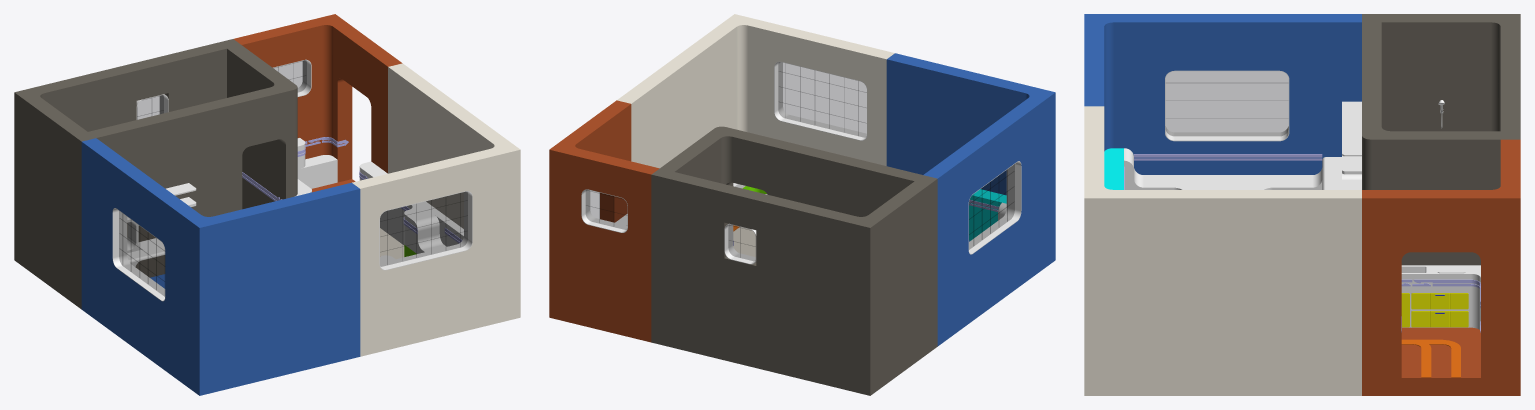
File: vision typeC OptionC.glb
The picture shows the model from 3 angles, left to right: view 1: azimuth 30°, elevation 25°; view 2: azimuth 150°, elevation 25°; view 3: azimuth 270°, elevation 25°; orthographic projection. The views are drawn at different scales.
Visible parts, largest first — view 1: 卧室墙, 厕所墙, 客厅墙, 厨房墙, 玻璃, 窗框（金属）, 沙发（软包，软垫，皮纹细腻）, 橱柜，木制或者整体性强的材质, 架子（木板）, 储物柜，木制或者整体性强的材质, 触摸板; view 2: 厕所墙, 卧室墙, 客厅墙, 厨房墙, 玻璃, 窗框（金属）, 床15MM 软包边-皮质; view 3: 客厅墙, 卧室墙, 厕所墙, 厨房墙, 玻璃, 床（软包，软垫，皮纹细腻）, 架子（木板）, 橱柜，木制或者整体性强的材质, 柜门，区别于整体的柜子, 触摸板, 窗框（金属）, PATH (+1 smaller).
Part boxes in pixels (box(x1,y1,x2,y2)): 卧室墙: box(81, 138, 360, 395); 厕所墙: box(14, 39, 297, 309); 客厅墙: box(352, 63, 520, 356); 厨房墙: box(234, 14, 402, 192); 玻璃: box(119, 60, 467, 296); 窗框（金属）: box(112, 59, 472, 301); 沙发（软包，软垫，皮纹细腻）: box(404, 204, 463, 253); 橱柜，木制或者整体性强的材质: box(295, 138, 337, 196); 架子（木板）: box(127, 183, 196, 266); 储物柜，木制或者整体性强的材质: box(359, 161, 429, 245); 触摸板: box(242, 137, 462, 243); 厕所墙: box(651, 126, 937, 395); 卧室墙: box(886, 53, 1055, 346); 客厅墙: box(617, 14, 894, 256); 厨房墙: box(549, 100, 659, 342); 玻璃: box(586, 62, 1014, 260); 窗框（金属）: box(581, 61, 1021, 264); 床15MM 软包边-皮质: box(969, 189, 1006, 240); 客厅墙: box(1084, 106, 1361, 395); 卧室墙: box(1084, 14, 1361, 174); 厕所墙: box(1362, 14, 1520, 265); 厨房墙: box(1362, 139, 1520, 395); 玻璃: box(1166, 71, 1288, 135); 床（软包，软垫，皮纹细腻）: box(1124, 148, 1322, 189); 架子（木板）: box(1322, 101, 1361, 189); 橱柜，木制或者整体性强的材质: box(1401, 265, 1480, 329); 柜门，区别于整体的柜子: box(1401, 293, 1468, 327); 触摸板: box(1124, 154, 1480, 332); 窗框（金属）: box(1165, 70, 1289, 141); PATH: box(1401, 339, 1460, 377).
Bounding box in the file's own units: 6.6 × 3.3 × 6.6.
